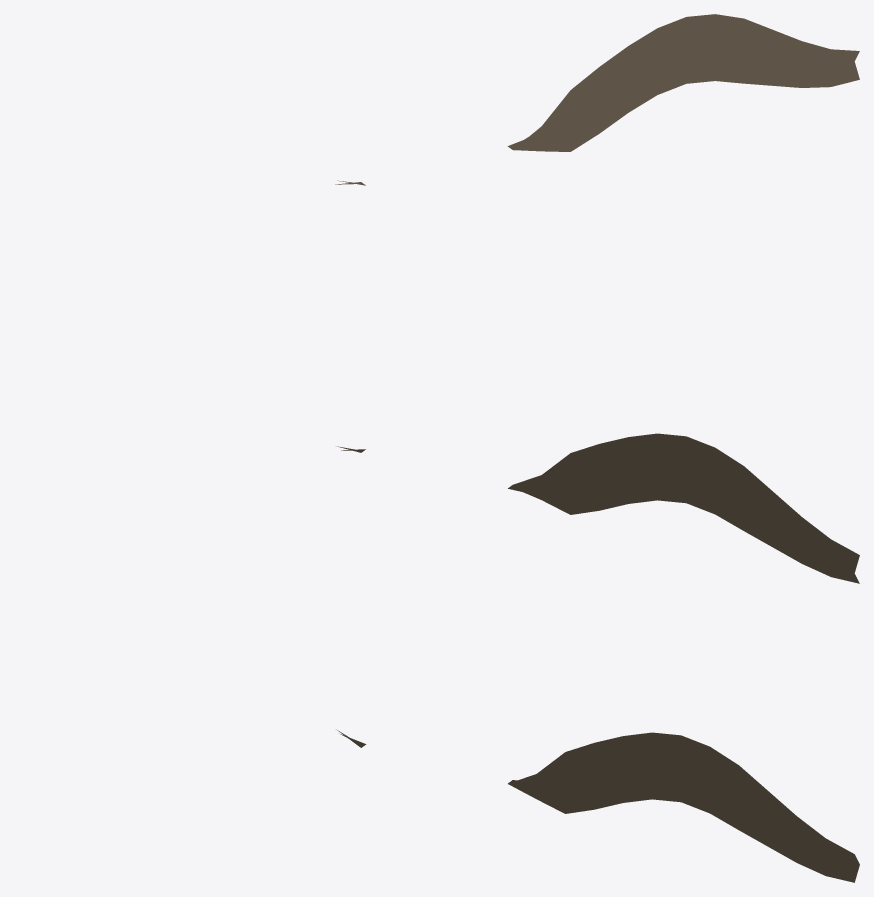
Rendered from arched.glb.
3 renders of one model, top to bottom at view 1: azimuth 30°, elevation 25°; view 2: azimuth 150°, elevation 25°; view 3: azimuth 330°, elevation 25°, orthographic.
Parts seen in each view (by area): view 1: eyebrows_arched; view 2: eyebrows_arched; view 3: eyebrows_arched.
Boxes of the visible parts, <box> form: eyebrows_arched: <box>335,14,859,185</box>; eyebrows_arched: <box>337,433,859,583</box>; eyebrows_arched: <box>336,729,859,882</box>.
Size of the model in its own units: 0.92 by 0.1119 by 0.01.
